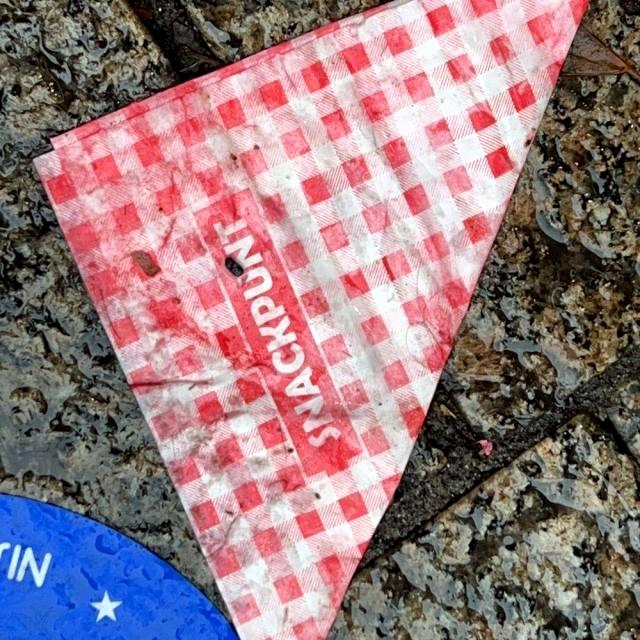Paper: (25, 1, 595, 637)
